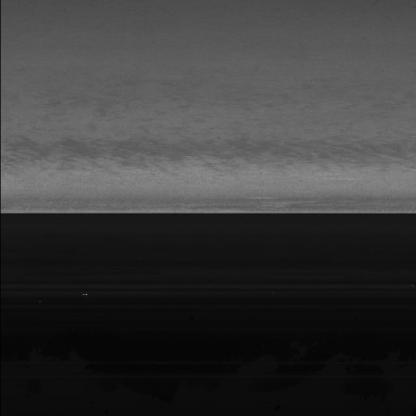silk_spot: (162, 148, 255, 180)
